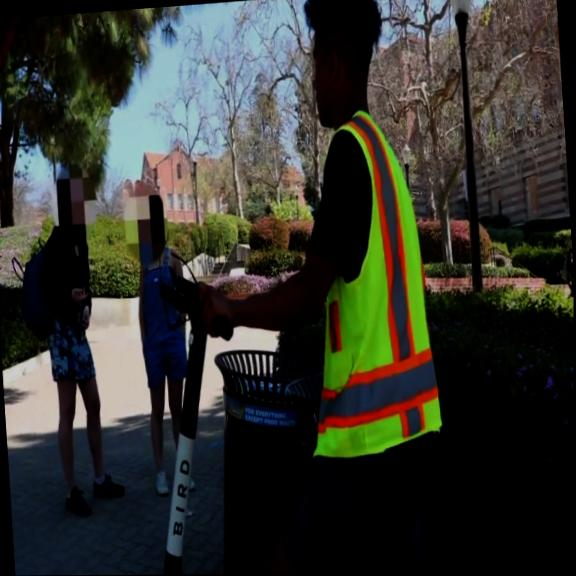safety_vest: (287, 103, 446, 465)
